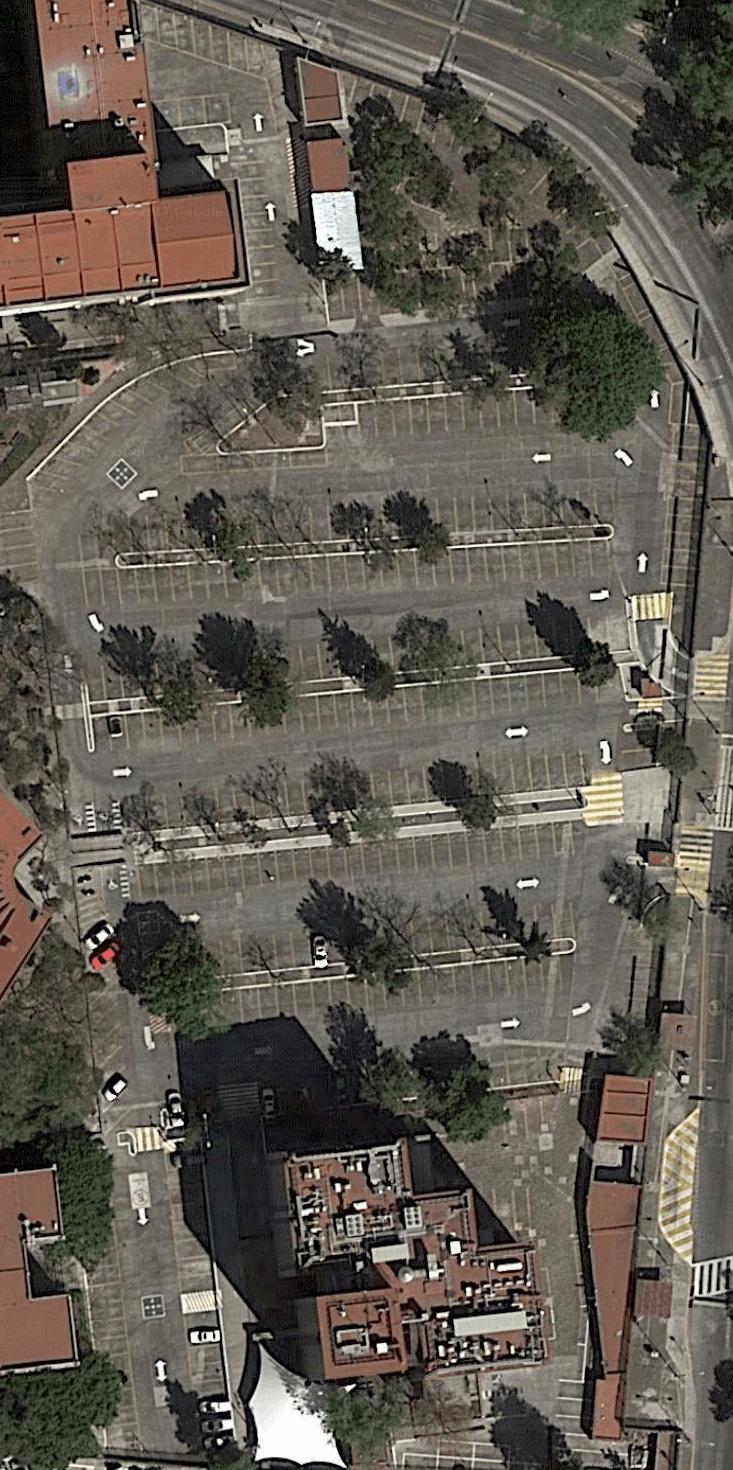parkingspot: (84, 615, 611, 702), (91, 667, 600, 749), (128, 750, 586, 834), (82, 539, 611, 606), (136, 819, 576, 898), (112, 488, 600, 554), (201, 901, 576, 979), (220, 953, 565, 1025), (26, 359, 210, 493), (79, 914, 135, 1137), (82, 1244, 141, 1448), (309, 339, 515, 391), (139, 3, 268, 82), (356, 386, 537, 436), (659, 422, 710, 588), (182, 1308, 234, 1451), (165, 1163, 216, 1294), (236, 157, 281, 300), (179, 445, 331, 475), (148, 89, 233, 132), (624, 944, 664, 1030), (263, 59, 304, 138), (485, 1046, 546, 1090), (553, 1376, 596, 1436), (621, 728, 658, 773), (193, 417, 231, 456)
